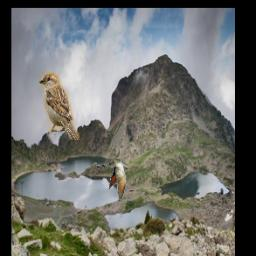Cuckoo: (96, 160, 129, 201)
Sparrow: (39, 73, 80, 141)
